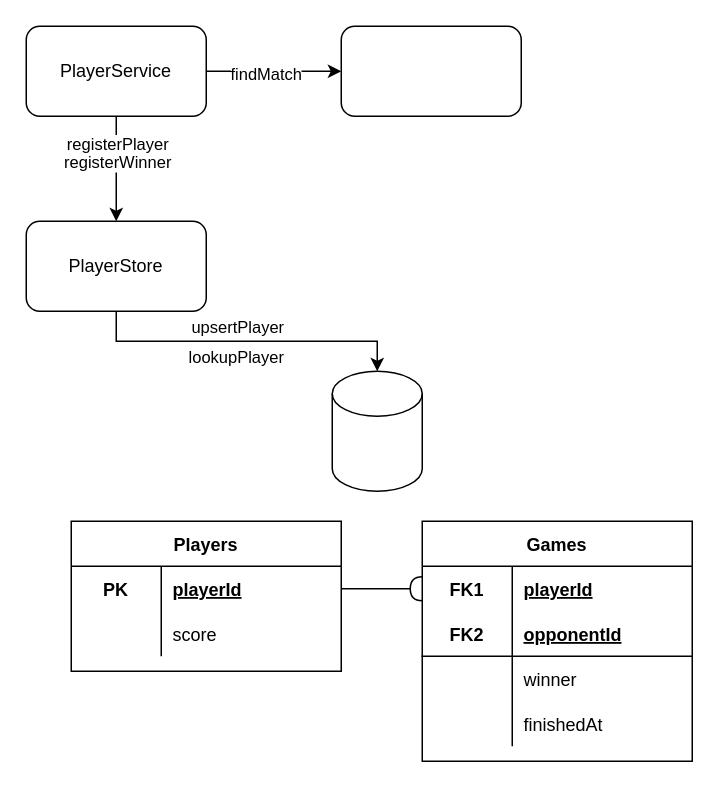
This 719x788 diagram has some shape labels left out. Each missing label, with the centre of its shape:
H2 embedded: the point at 376,430
MatchMaker: the point at 430,70
